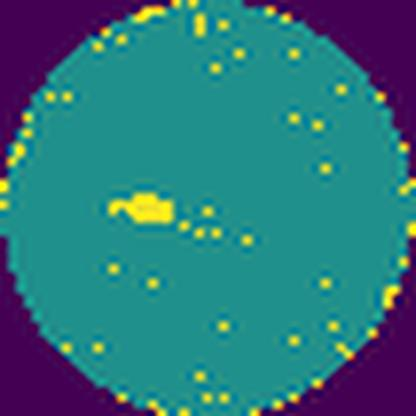Loc: (108, 189, 176, 224)
